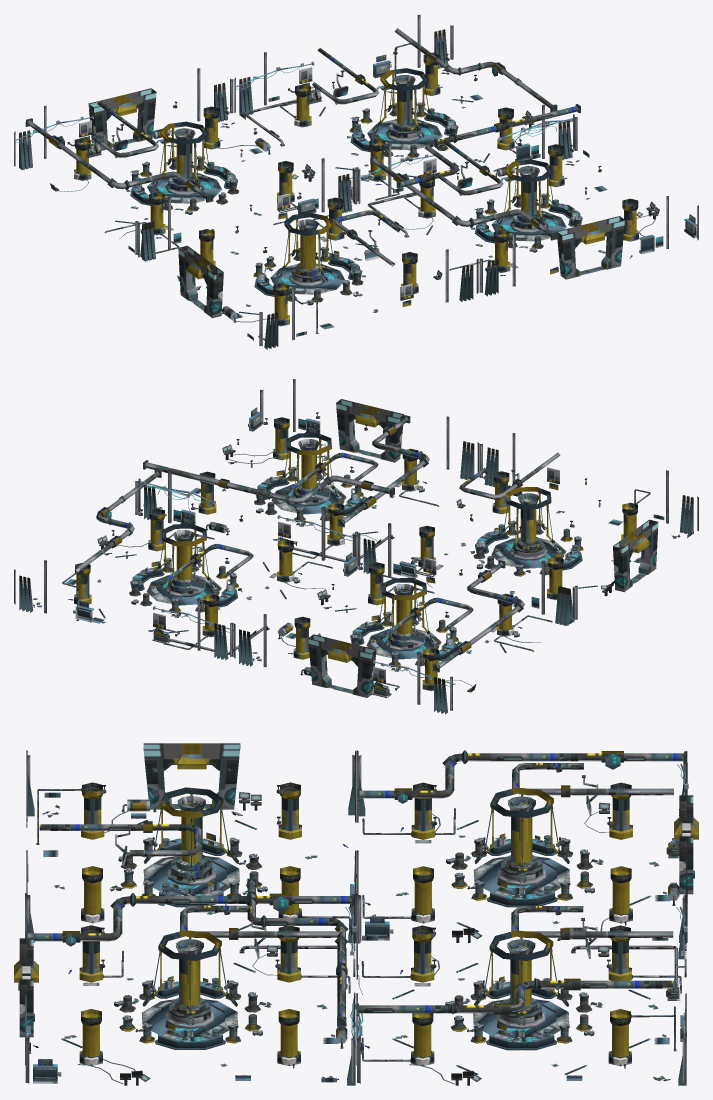
The model's file is Combined_Mesh_root_scene__9_f65a131e__ZombiesII_laboratory_09_d_715a74b3_c1f257_part001.obj.
3 views of the same model, one above another, from view 1: azimuth 30°, elevation 25°; view 2: azimuth 150°, elevation 25°; view 3: azimuth 270°, elevation 25° (orthographic). The views are drawn at different scales.
Size of the model in its own units: 83.04 by 10.34 by 83.14.
Materials: 538 (538 with a texture image).
